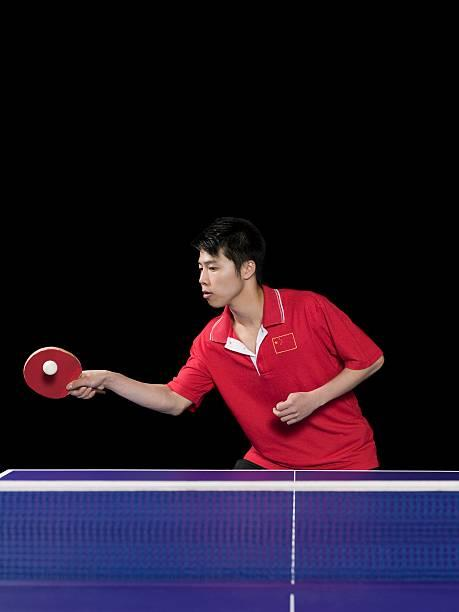ball_pingpong: (43, 360, 58, 377)
